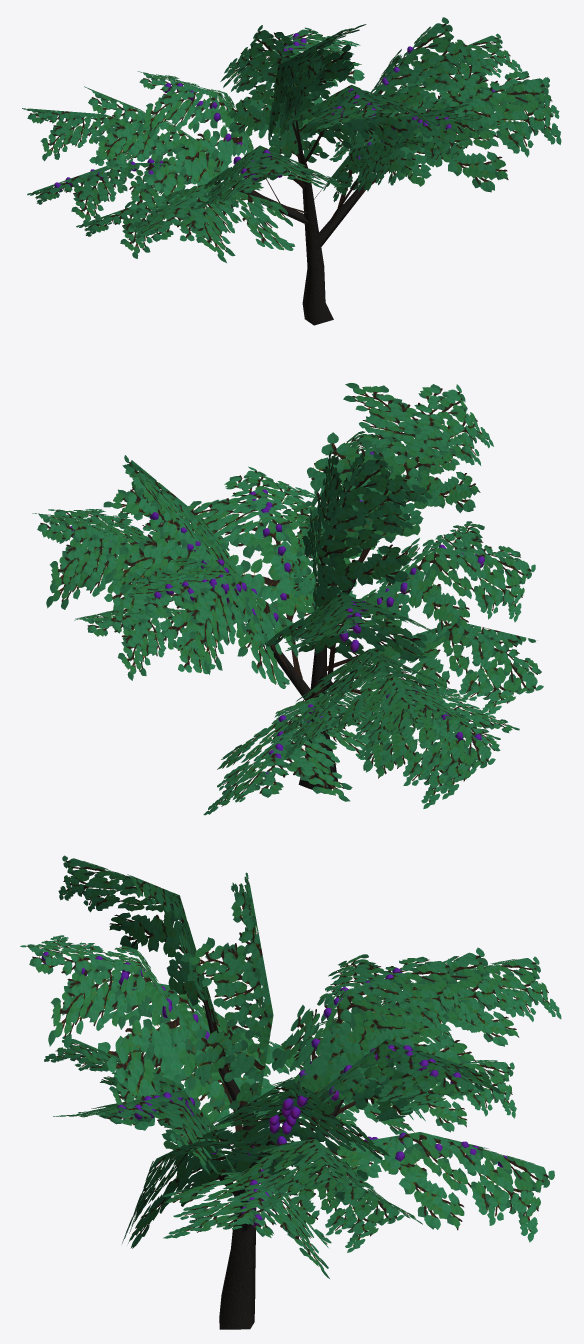
The model's file is Plum01.fbx.
3 renders of one model, top to bottom at view 1: azimuth 30°, elevation 25°; view 2: azimuth 150°, elevation 25°; view 3: azimuth 270°, elevation 25°, orthographic. The views are drawn at different scales.
Parts seen in each view (by area): view 1: Plum01; view 2: Plum01; view 3: Plum01.
Boxes of the visible parts, bbox=[...] form: Plum01: bbox=[22, 17, 561, 325]; Plum01: bbox=[32, 383, 543, 815]; Plum01: bbox=[20, 855, 561, 1329].
Bounding box in the file's own units: 780 × 546 × 594.
